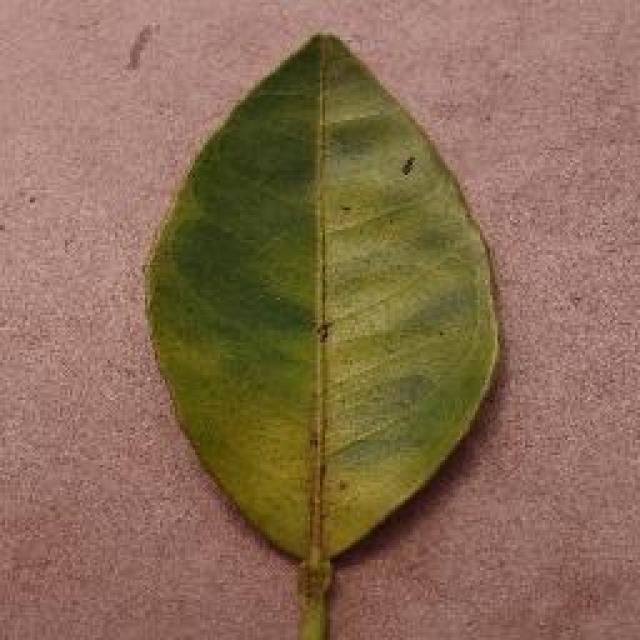Orange_Haunglongbing_Citrus_greening: (162, 99, 458, 509)
